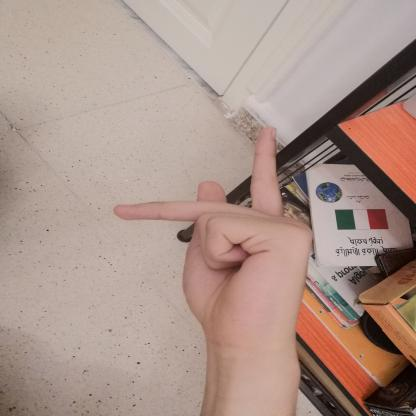DHAA: (93, 113, 335, 360)
